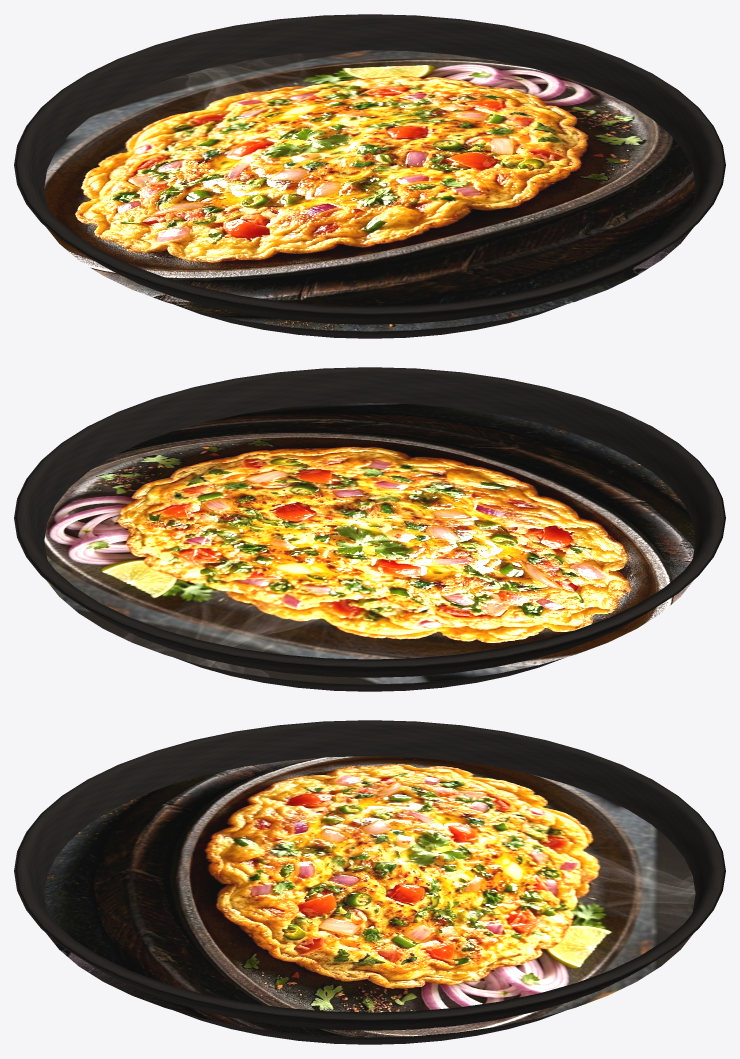
File: masala-omelette.glb
The picture shows the model from 3 angles, top to bottom: view 1: azimuth 30°, elevation 25°; view 2: azimuth 150°, elevation 25°; view 3: azimuth 270°, elevation 25°; orthographic projection.
Parts seen in each view (by area): view 1: FoodMound, StonewareVessel; view 2: FoodMound, StonewareVessel; view 3: FoodMound, StonewareVessel.
Part boxes in pixels (box(x1,y1,x2,y2)): FoodMound: box(44, 50, 695, 331); StonewareVessel: box(14, 14, 725, 338); FoodMound: box(44, 403, 695, 684); StonewareVessel: box(14, 367, 725, 691); FoodMound: box(44, 756, 695, 1037); StonewareVessel: box(14, 720, 725, 1044).
Bounding box in the file's own units: 0.22 × 0.0225 × 0.22.
Materials: 2 (2 with a texture image).
